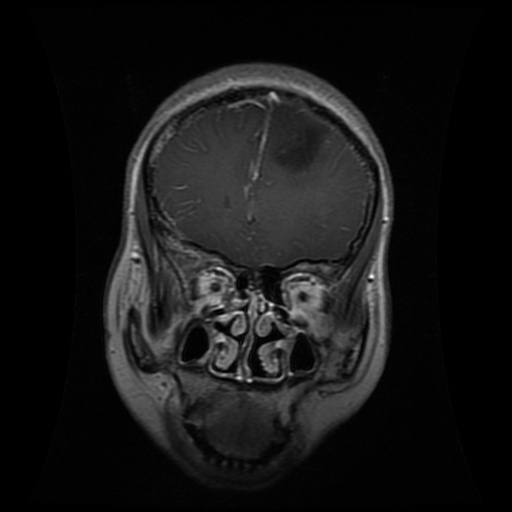glioma: (267, 104, 331, 173)
